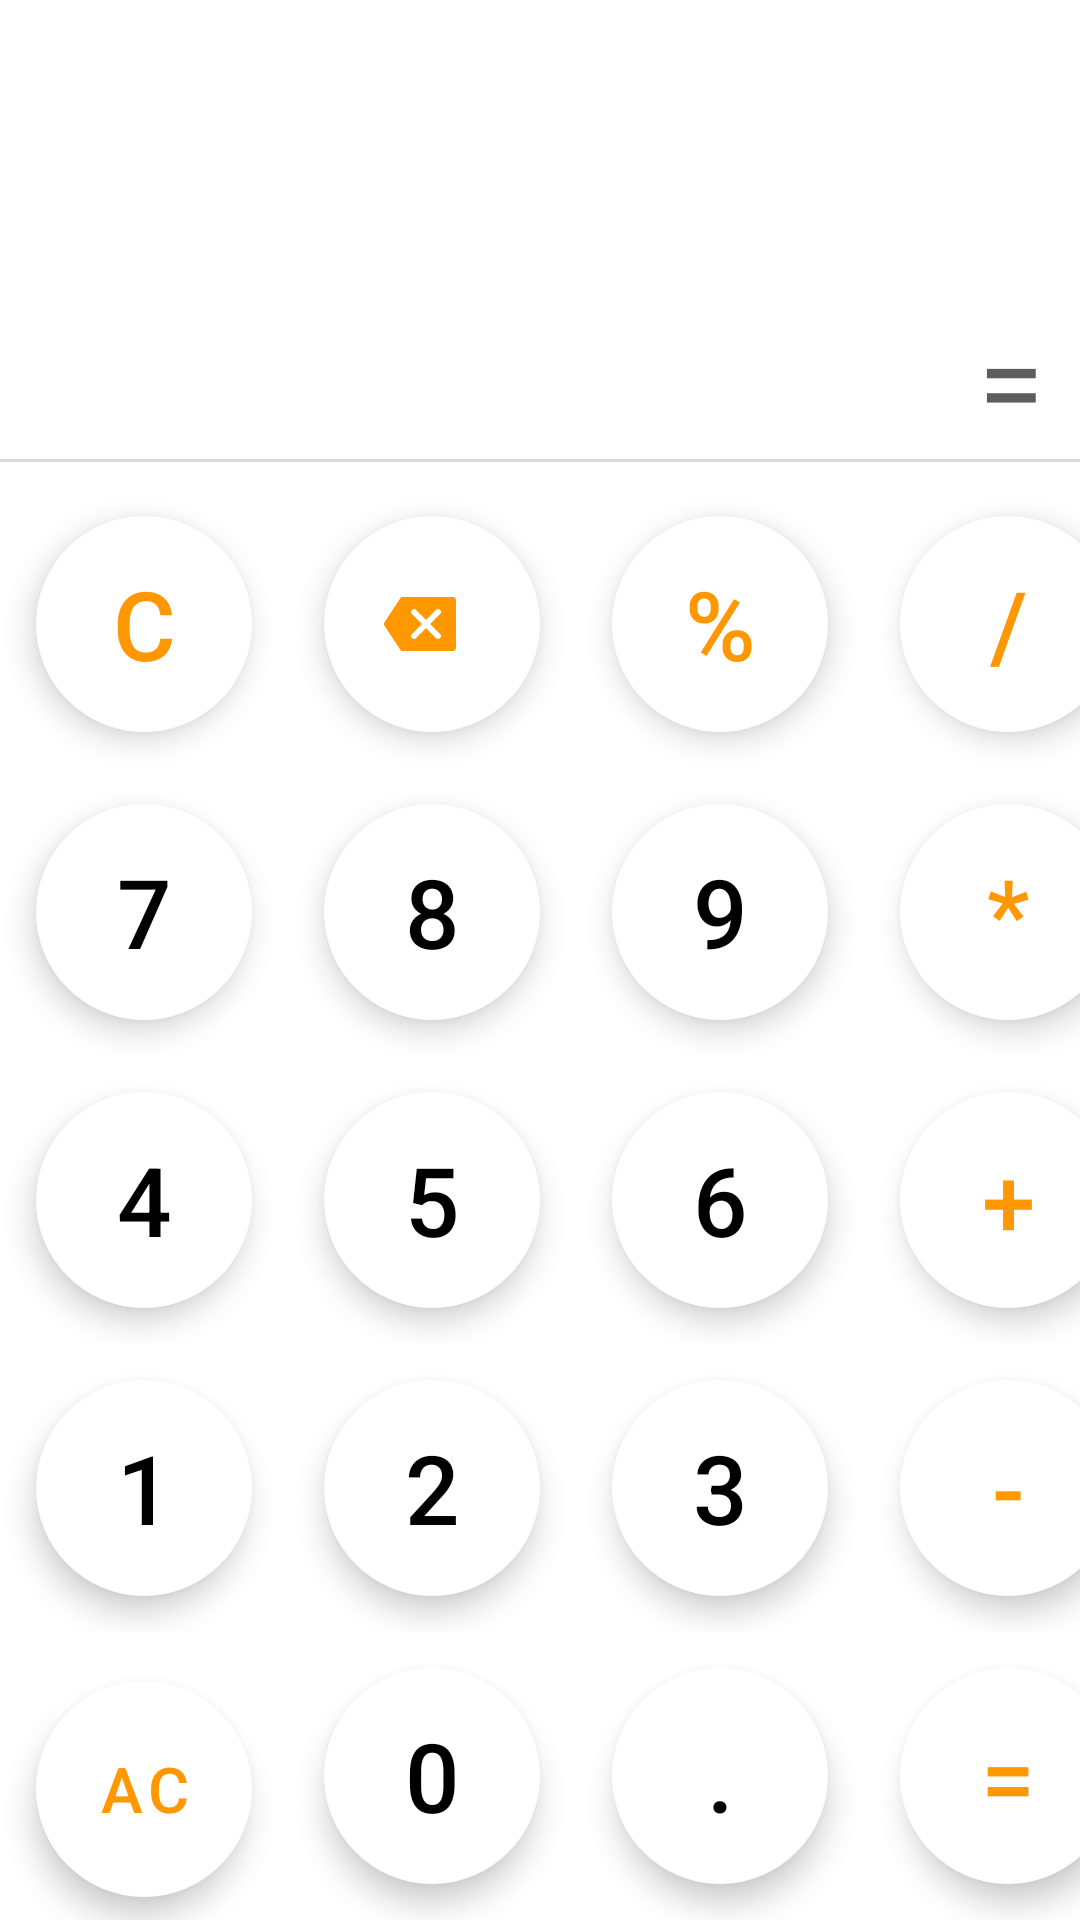

Screen size 1080px×1920px. Icon name, then its box in pixels as bbox=(x1, y1, x2, y2):
backspace: bbox=(330, 597, 514, 732)
